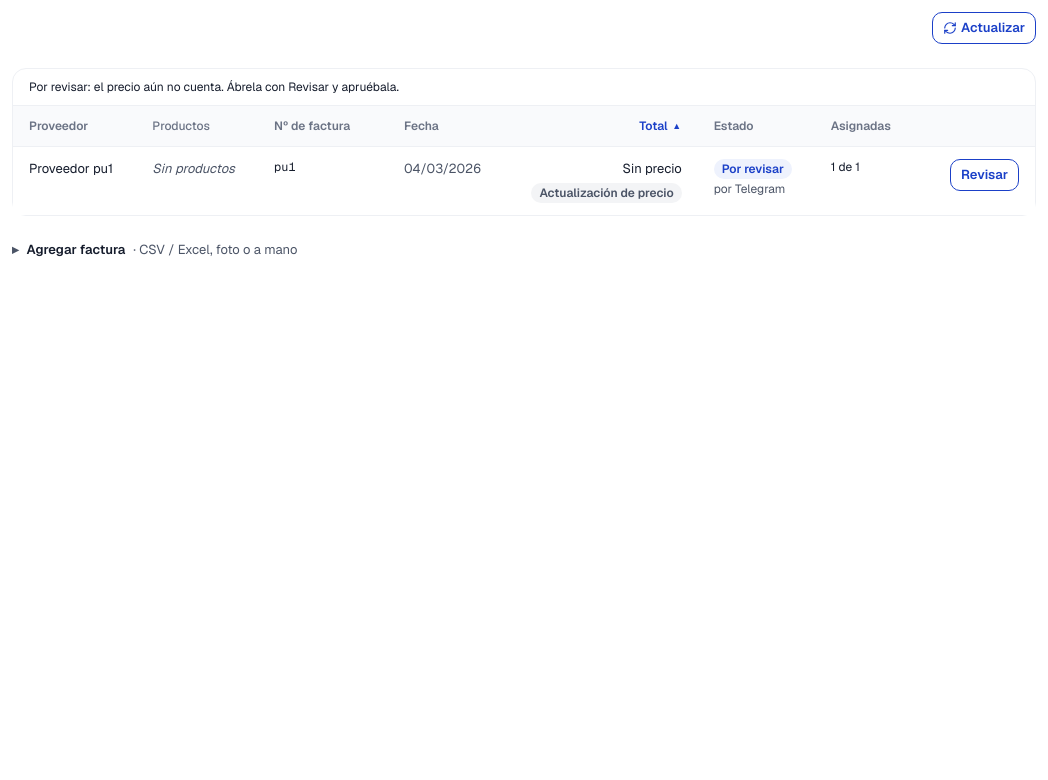
Test: Review panel › a missing or zero line price still reads «Sin precio», never $0
Click the button "Revisar": x=985, y=175 x1=950 y1=159 x2=1019 y2=191
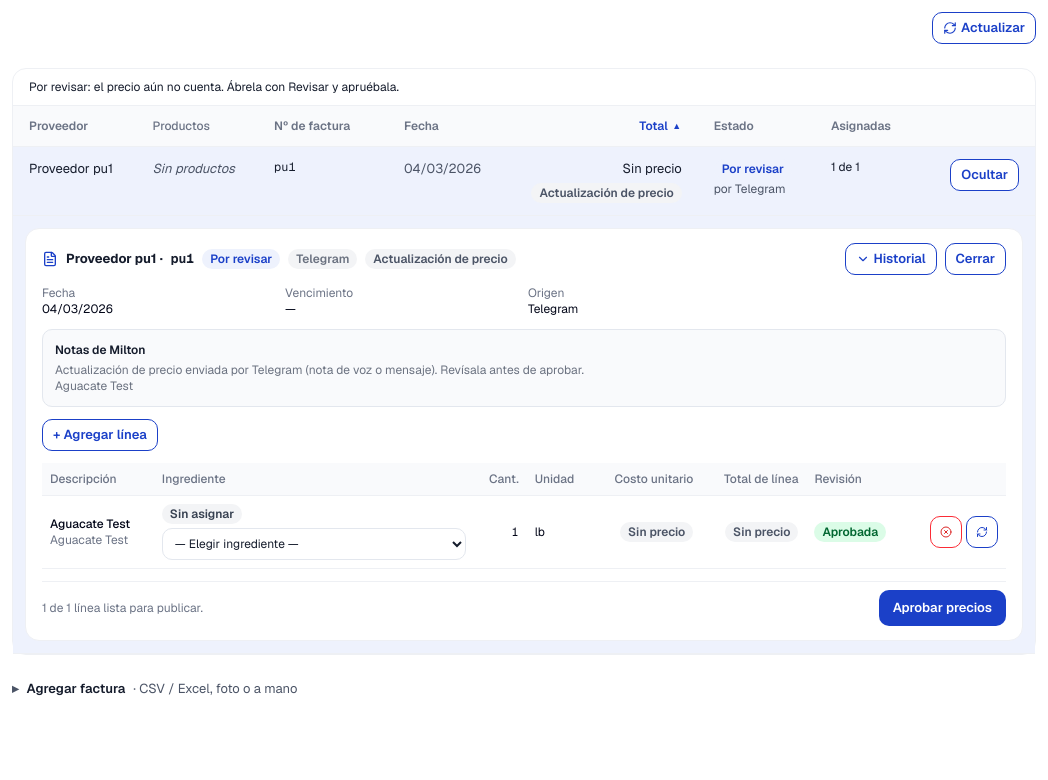
Expected: the button "Aprobar precios" is shown, x1=879 y1=590 x2=1006 y2=626
Expected: the 2nd text "Sin precio" is shown, x1=620 y1=522 x2=693 y2=542
